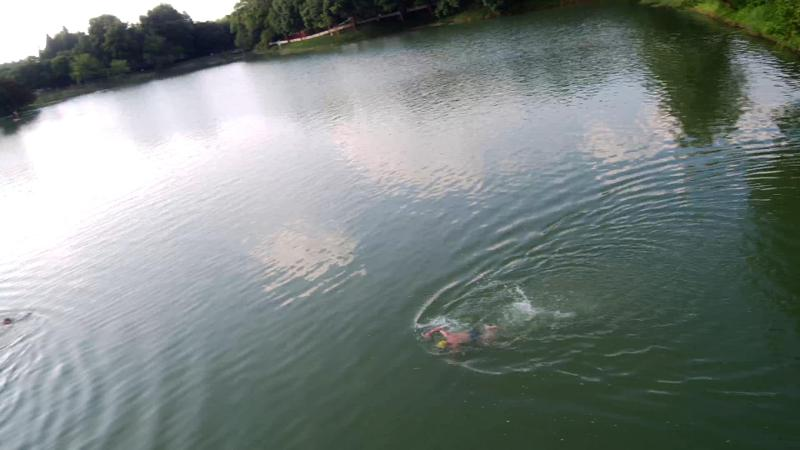swimmers: (420, 320, 499, 358)
